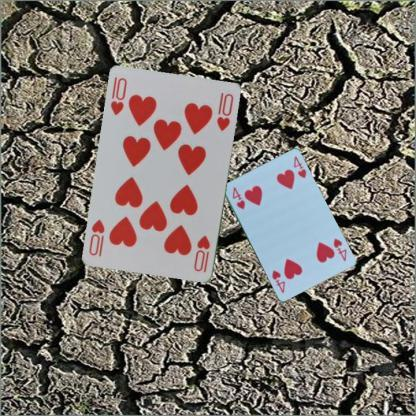10h: (108, 75, 128, 117), (192, 233, 212, 274)
4h: (330, 235, 348, 262), (230, 184, 246, 210)
